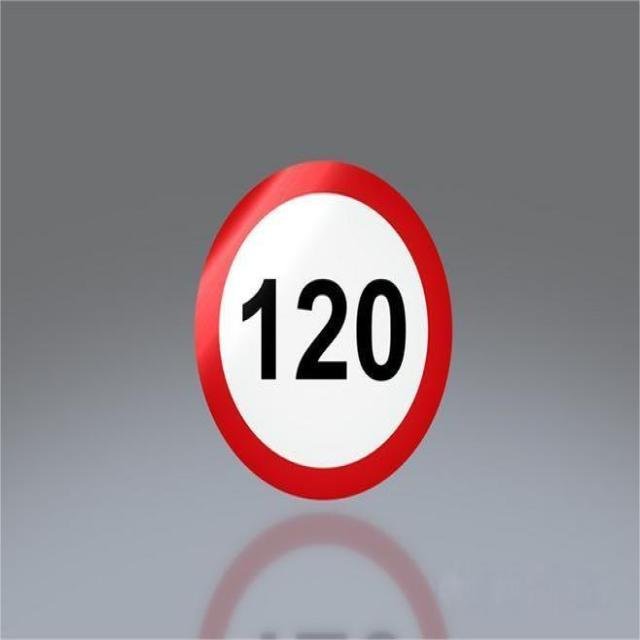speed limit 120: (196, 162, 456, 501)
